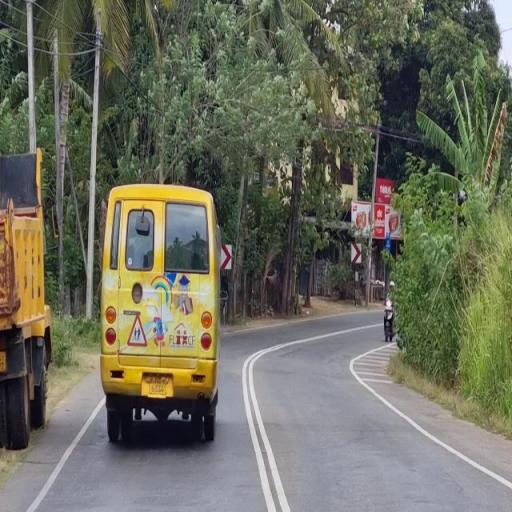double_white_line: (24, 397, 102, 511), (240, 343, 290, 512)
